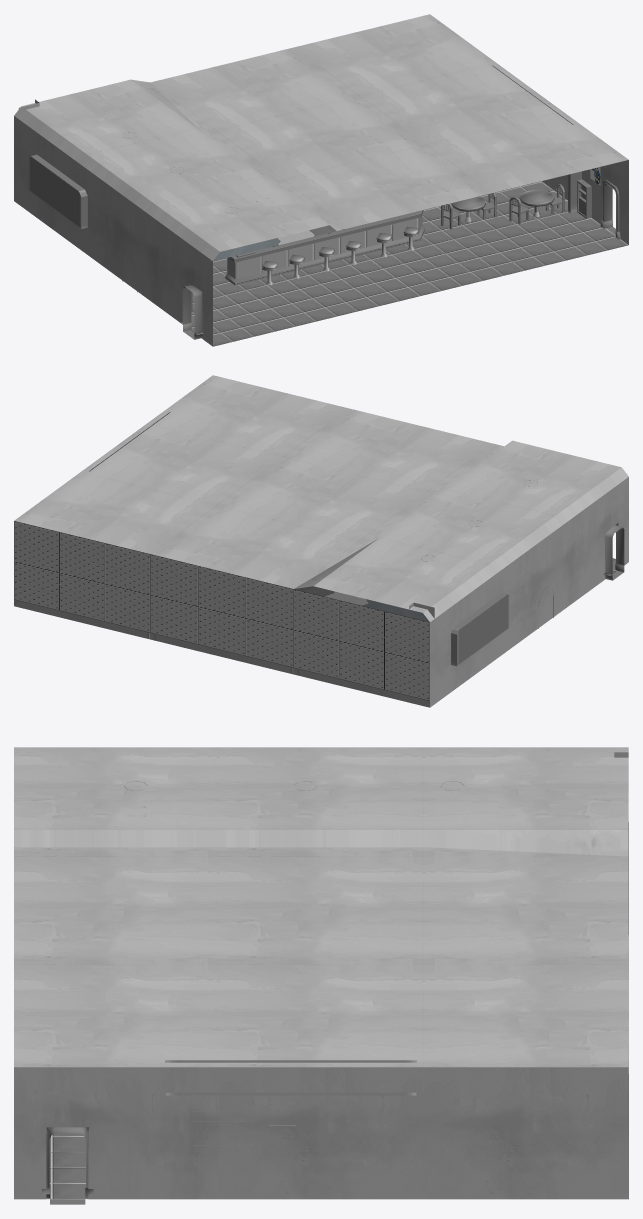
The model's file is MSH_Bar_room_L3_R3_optimized.fbx.
3 views of the same model, one above another, from view 1: azimuth 30°, elevation 25°; view 2: azimuth 150°, elevation 25°; view 3: azimuth 270°, elevation 25° (orthographic). The views are drawn at different scales.
Visible parts, largest first — view 1: lightmap0, lightmap-1; view 2: lightmap0, lightmap-1; view 3: lightmap0.
Boxes of the visible parts, x1,y1,x2,y2 form: lightmap0: (14,14,628,346); lightmap-1: (182,184,615,339); lightmap0: (14,375,628,707); lightmap-1: (605,525,624,580); lightmap0: (14,747,628,1199).
Bounding box in the file's own units: 30.91 × 6.7 × 24.78.
Materials: 7 (5 with a texture image).
